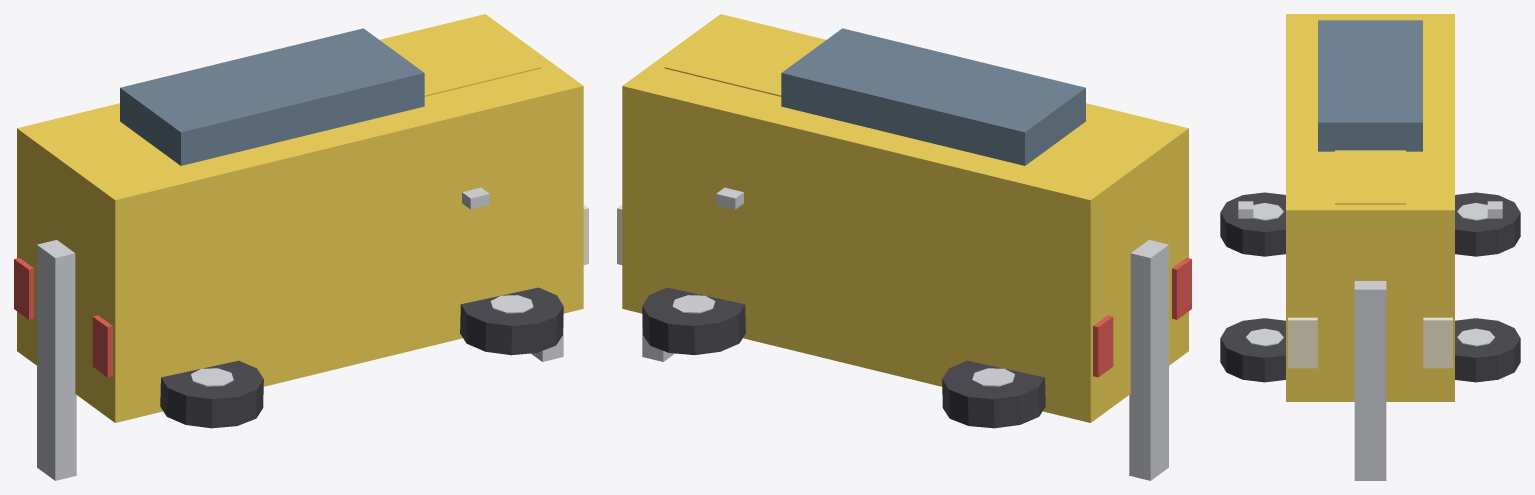
File: taxi.glb
3 views of the same model, side by side, from view 1: azimuth 30°, elevation 25°; view 2: azimuth 150°, elevation 25°; view 3: azimuth 270°, elevation 25° (orthographic). The views are drawn at different scales.
Parts seen in each view (by area): view 1: Body, Cabin, BumperR, Wheel-1.4080000000000001-1.0, Wheel1.4080000000000001-1.0, Hood, Tail-1, Tail1, Hub-1.4080000000000001-1.0, Hub1.4080000000000001-1.0; view 2: Body, Cabin, BumperR, Wheel-1.40800000000000011.0, Wheel1.40800000000000011.0, Hood, Tail1, Tail-1, Hub-1.40800000000000011.0, Hub1.40800000000000011.0; view 3: Body, Cabin, BumperF, Hood, Wheel1.4080000000000001-1.0, Wheel1.40800000000000011.0, Wheel-1.4080000000000001-1.0, Wheel-1.40800000000000011.0, Head-1, Head1, Hub1.4080000000000001-1.0, Hub1.40800000000000011.0 (+2 smaller).
Boxes of the visible parts, <box> form: Body: <box>17,14,583,422</box>; Cabin: <box>120,28,424,165</box>; BumperR: <box>37,240,76,480</box>; Wheel-1.4080000000000001-1.0: <box>160,360,263,428</box>; Wheel1.4080000000000001-1.0: <box>460,287,563,355</box>; Hood: <box>407,37,541,96</box>; Tail-1: <box>92,315,112,377</box>; Tail1: <box>14,257,33,319</box>; Hub-1.4080000000000001-1.0: <box>191,368,233,386</box>; Hub1.4080000000000001-1.0: <box>490,295,533,313</box>; Body: <box>622,14,1188,422</box>; Cabin: <box>781,28,1085,165</box>; BumperR: <box>1129,240,1168,480</box>; Wheel-1.40800000000000011.0: <box>942,360,1045,428</box>; Wheel1.40800000000000011.0: <box>642,287,745,355</box>; Hood: <box>664,37,798,96</box>; Tail1: <box>1093,315,1113,377</box>; Tail-1: <box>1172,257,1191,319</box>; Hub-1.40800000000000011.0: <box>972,368,1014,386</box>; Hub1.40800000000000011.0: <box>672,295,715,313</box>; Body: <box>1286,14,1454,401</box>; Cabin: <box>1318,20,1422,151</box>; BumperF: <box>1354,281,1386,480</box>; Hood: <box>1335,150,1405,204</box>; Wheel1.4080000000000001-1.0: <box>1220,318,1285,382</box>; Wheel1.40800000000000011.0: <box>1455,318,1520,382</box>; Wheel-1.4080000000000001-1.0: <box>1220,192,1285,256</box>; Wheel-1.40800000000000011.0: <box>1455,192,1520,256</box>; Head-1: <box>1288,317,1317,368</box>; Head1: <box>1423,317,1452,368</box>; Hub1.4080000000000001-1.0: <box>1246,328,1283,346</box>; Hub1.40800000000000011.0: <box>1457,328,1494,346</box>.
Size of the model in its own units: 4.78 by 3.04 by 2.84.
